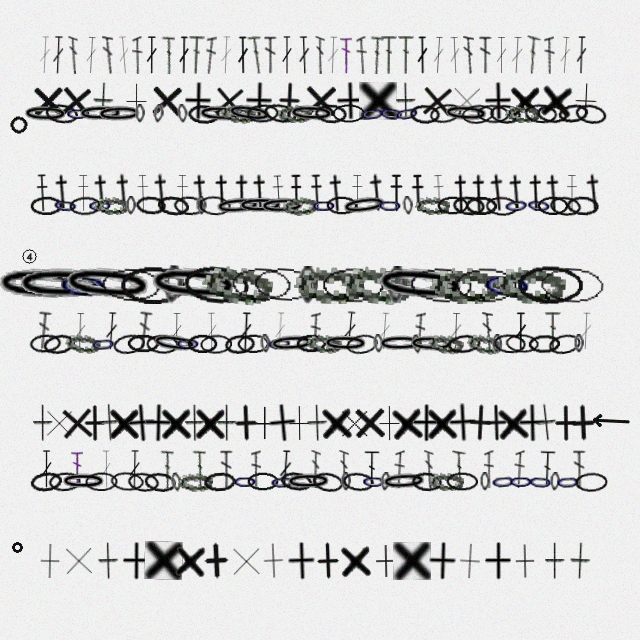chain: (372, 262, 469, 308), (59, 262, 156, 307), (145, 262, 242, 307), (0, 264, 89, 306), (14, 265, 109, 304), (201, 262, 274, 307), (341, 263, 413, 306), (182, 263, 250, 307), (495, 264, 566, 305), (407, 264, 474, 305), (538, 264, 605, 305), (294, 265, 364, 304), (251, 264, 317, 305), (229, 264, 294, 305), (430, 266, 500, 304), (517, 265, 584, 304), (99, 265, 164, 305), (320, 265, 385, 304), (453, 265, 518, 304), (120, 266, 186, 304), (479, 264, 535, 306), (56, 264, 111, 306), (225, 101, 274, 126), (340, 193, 389, 218), (150, 331, 199, 356), (214, 195, 262, 217), (442, 103, 490, 124), (268, 333, 316, 354), (380, 471, 428, 492), (288, 103, 335, 124), (22, 104, 69, 124), (96, 104, 143, 124), (197, 104, 244, 124), (259, 196, 306, 216), (408, 334, 455, 354), (262, 101, 298, 126), (77, 104, 124, 123), (237, 196, 284, 215), (322, 334, 369, 353), (377, 334, 424, 353), (60, 472, 107, 491), (285, 472, 332, 491), (466, 332, 503, 356), (428, 101, 463, 126), (162, 265, 184, 304), (547, 332, 582, 356), (574, 102, 608, 126), (42, 332, 76, 356), (112, 332, 146, 356), (345, 332, 379, 356), (311, 470, 345, 494), (44, 102, 79, 125), (386, 266, 407, 304), (282, 195, 318, 217), (428, 333, 464, 355), (156, 194, 190, 217), (29, 470, 63, 493), (279, 470, 313, 493), (298, 266, 318, 304), (557, 102, 590, 125), (220, 103, 256, 124), (65, 333, 101, 354), (306, 333, 342, 354), (461, 103, 495, 125), (447, 333, 481, 355), (143, 471, 177, 493), (489, 103, 522, 125), (536, 103, 569, 125), (549, 195, 582, 217), (127, 471, 160, 493), (342, 471, 375, 493), (524, 103, 558, 124), (505, 333, 539, 354), (110, 471, 144, 492), (224, 333, 256, 355), (178, 472, 213, 492), (246, 103, 279, 124), (314, 103, 347, 124), (173, 195, 206, 216), (198, 195, 231, 216), (452, 195, 485, 216), (566, 195, 599, 216), (29, 333, 62, 354), (493, 333, 526, 354), (48, 471, 81, 492), (203, 471, 236, 492), (485, 196, 519, 216), (135, 195, 167, 216), (411, 471, 443, 492), (277, 104, 312, 123), (505, 104, 540, 123), (94, 196, 129, 215), (415, 196, 450, 215), (429, 472, 464, 491), (187, 104, 220, 124), (69, 196, 102, 216), (146, 334, 179, 354), (575, 472, 608, 492), (393, 102, 421, 125), (409, 104, 441, 124), (477, 104, 509, 124), (200, 334, 232, 354), (528, 334, 560, 354), (332, 104, 365, 123), (85, 472, 118, 491), (30, 196, 62, 215), (326, 196, 358, 215), (437, 196, 469, 215), (465, 196, 497, 215), (537, 196, 569, 215), (127, 334, 159, 353), (237, 334, 269, 353), (247, 472, 279, 491), (446, 472, 478, 491), (187, 334, 218, 353), (296, 334, 327, 353), (525, 195, 553, 216), (359, 103, 386, 124), (378, 103, 405, 124), (52, 195, 79, 216), (503, 195, 530, 216), (266, 333, 293, 354), (490, 471, 517, 492), (90, 334, 117, 354), (269, 472, 296, 492), (527, 472, 554, 492), (555, 472, 581, 492), (65, 104, 91, 123), (87, 196, 113, 215), (311, 196, 337, 215), (377, 196, 403, 215), (175, 334, 201, 353), (232, 472, 258, 491), (361, 472, 387, 491), (508, 472, 534, 491), (170, 472, 183, 492), (411, 334, 423, 354), (402, 196, 414, 215), (153, 104, 164, 123), (177, 104, 188, 123), (196, 196, 207, 215), (260, 334, 271, 353), (373, 334, 384, 353), (380, 472, 391, 491), (135, 104, 145, 123), (126, 196, 136, 215), (492, 334, 502, 353), (574, 334, 584, 353), (341, 472, 351, 491), (480, 472, 490, 491), (550, 472, 560, 491)
double: (247, 35, 264, 74), (524, 35, 541, 74), (136, 311, 153, 350), (188, 36, 205, 74), (539, 450, 556, 488), (36, 311, 52, 350), (342, 311, 358, 350), (116, 36, 132, 74), (368, 36, 384, 74), (381, 36, 397, 74), (398, 36, 414, 74), (545, 312, 561, 350), (364, 450, 380, 488), (431, 36, 446, 74), (104, 312, 119, 350), (377, 312, 392, 350), (159, 450, 174, 488), (278, 450, 293, 488), (38, 36, 52, 74), (51, 36, 65, 74), (84, 36, 98, 74), (161, 36, 175, 74), (219, 36, 233, 74), (297, 36, 311, 74), (326, 36, 340, 74), (448, 36, 462, 74), (510, 36, 524, 74), (558, 36, 572, 74), (73, 312, 87, 350), (239, 312, 253, 350), (273, 312, 287, 350), (449, 312, 463, 350), (579, 312, 593, 350), (192, 450, 206, 488), (452, 450, 466, 488), (145, 36, 158, 74), (204, 36, 217, 74), (264, 36, 277, 74), (416, 36, 429, 74), (479, 36, 492, 74), (495, 36, 508, 74), (575, 36, 588, 74), (170, 312, 183, 350), (205, 312, 218, 350), (514, 312, 527, 350), (40, 450, 53, 488), (128, 450, 141, 488), (220, 450, 233, 488), (573, 450, 586, 488), (102, 36, 114, 74), (178, 36, 190, 74), (237, 36, 249, 74), (281, 36, 293, 74), (340, 36, 352, 74), (356, 36, 368, 74), (414, 312, 426, 350), (71, 450, 83, 488), (100, 450, 112, 488), (68, 36, 79, 74), (132, 36, 143, 74), (463, 36, 474, 74), (544, 36, 555, 74), (310, 312, 321, 350), (482, 312, 493, 350), (310, 450, 321, 488), (394, 450, 405, 488), (514, 450, 525, 488), (315, 36, 325, 74), (251, 450, 261, 488), (339, 450, 349, 488), (424, 450, 434, 488), (484, 450, 494, 488)
half_double: (365, 173, 389, 212), (486, 173, 510, 212), (582, 173, 606, 212), (112, 173, 135, 212), (150, 173, 173, 212), (51, 174, 74, 212), (90, 174, 113, 212), (189, 174, 212, 212), (325, 174, 348, 212), (505, 174, 528, 212), (542, 174, 565, 212), (211, 174, 233, 212), (231, 174, 253, 212), (249, 174, 271, 212), (450, 174, 472, 212), (468, 174, 490, 212), (525, 174, 547, 212), (135, 174, 151, 212), (270, 174, 286, 212), (410, 174, 426, 212), (431, 174, 447, 212), (35, 174, 50, 212), (175, 174, 190, 212), (309, 174, 324, 212), (389, 174, 404, 212), (76, 174, 90, 212), (289, 174, 303, 212), (350, 174, 364, 212), (565, 174, 579, 212)
noise: (590, 412, 630, 429), (7, 113, 30, 136), (20, 247, 39, 266), (10, 540, 24, 554)
single: (56, 81, 96, 121), (209, 81, 249, 121), (417, 81, 457, 121), (57, 403, 97, 443), (450, 541, 490, 581), (538, 80, 576, 121), (147, 81, 186, 120), (270, 81, 309, 120), (301, 81, 340, 120), (447, 81, 486, 120), (566, 81, 605, 120), (226, 403, 265, 442), (350, 403, 389, 442), (461, 403, 500, 442), (477, 403, 516, 442), (563, 403, 602, 442), (59, 541, 98, 580), (144, 541, 183, 580), (197, 541, 236, 580), (254, 541, 293, 580), (308, 541, 347, 580), (389, 403, 426, 443), (495, 403, 532, 443), (29, 82, 67, 120), (117, 82, 155, 120), (359, 82, 397, 120), (40, 404, 78, 442), (76, 404, 114, 442), (245, 404, 283, 442), (280, 404, 318, 442), (335, 404, 373, 442), (370, 404, 408, 442), (547, 404, 585, 442), (31, 542, 69, 580), (227, 542, 265, 580), (367, 542, 405, 580), (393, 542, 431, 580), (506, 542, 544, 580), (172, 541, 209, 580), (319, 403, 355, 442), (338, 541, 374, 580), (508, 82, 543, 120), (107, 404, 142, 442), (159, 404, 194, 442), (193, 404, 228, 442), (425, 404, 460, 442), (125, 403, 157, 443), (266, 403, 298, 443), (447, 403, 477, 442), (286, 542, 316, 580), (427, 542, 457, 580), (183, 82, 212, 120), (244, 82, 273, 120), (335, 82, 364, 120), (483, 82, 512, 120), (143, 404, 172, 442), (411, 404, 440, 442), (517, 404, 546, 442), (121, 542, 150, 580), (483, 542, 512, 580), (535, 403, 558, 442), (99, 403, 121, 442), (93, 82, 114, 120), (307, 404, 328, 442), (98, 542, 119, 580), (570, 542, 591, 580), (396, 82, 416, 120), (33, 404, 53, 442), (185, 404, 205, 442), (217, 404, 237, 442), (545, 542, 565, 580)
